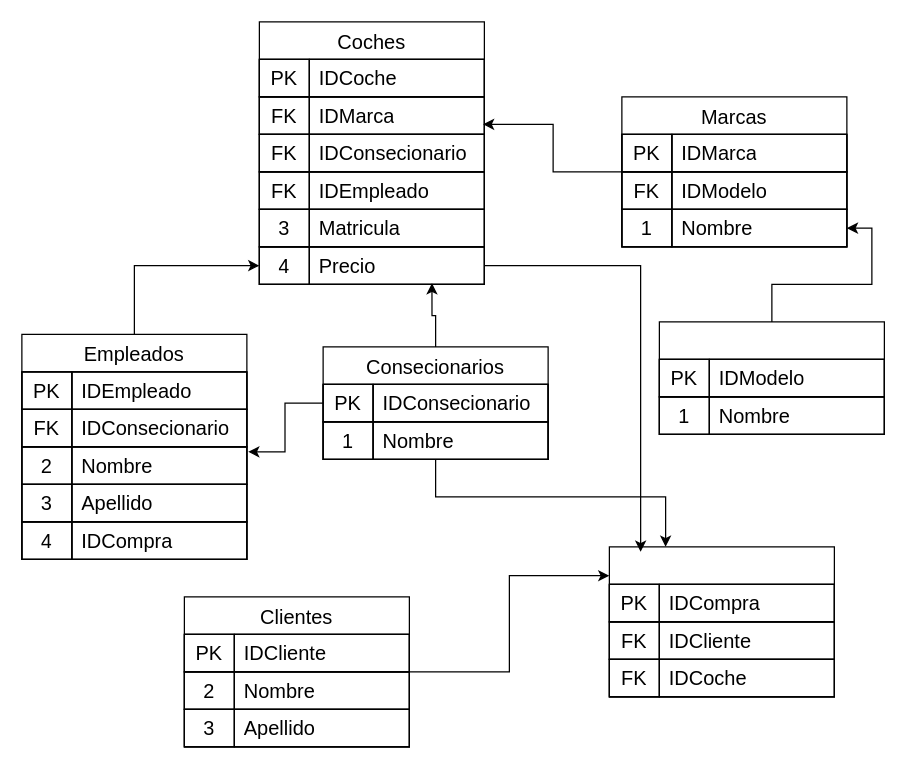
Some shapes in this 906 by 769 pixel diagram are drawn without their labels. Here are the shapes that lost their labels. From the top down, the box of each, then its label:
(658, 321, 884, 434): Modelos
(608, 546, 834, 697): Compras
